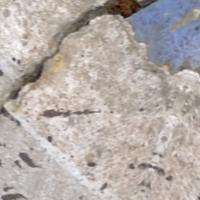crack: (2, 1, 159, 125)
